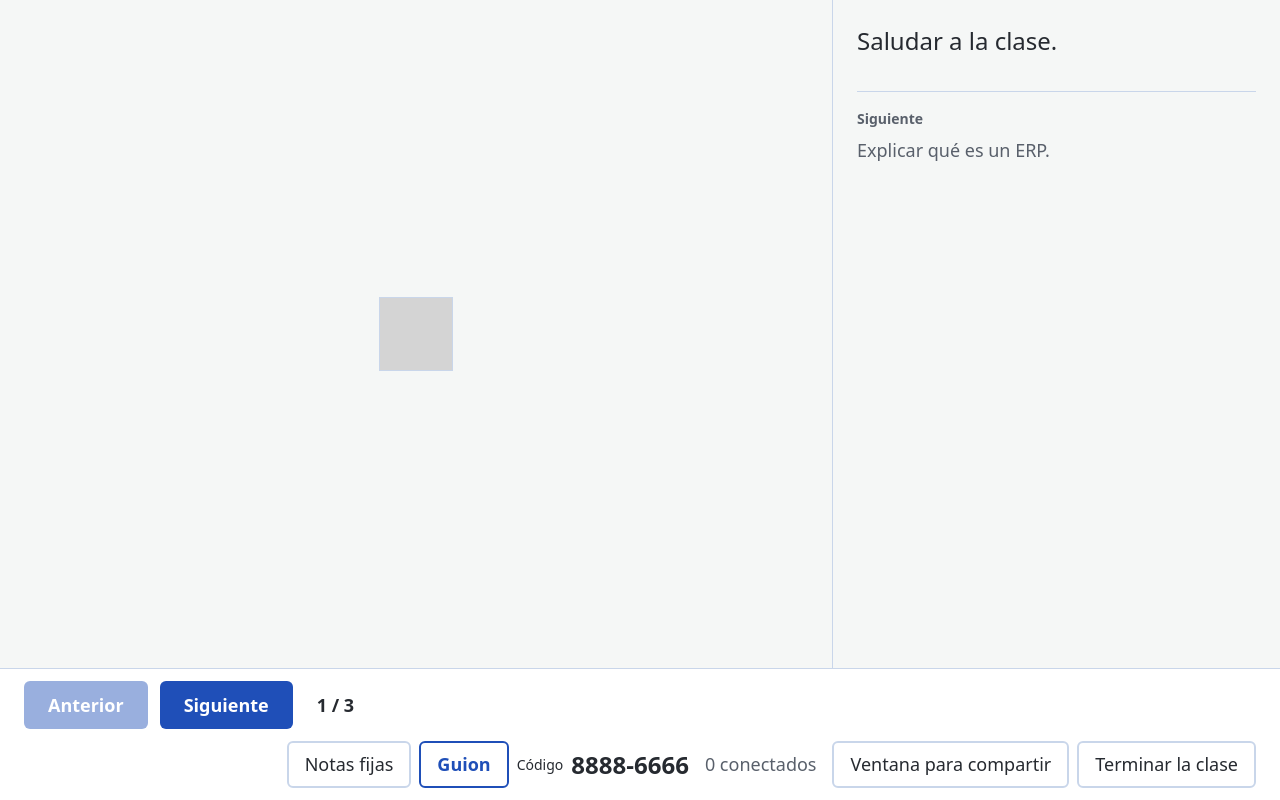
Test: ending the class asks first, and the view closes when the server says it ended
The image size is (1280, 800).
Click the button "Terminar la clase": (1167, 764) 1077,741 -> 1256,788
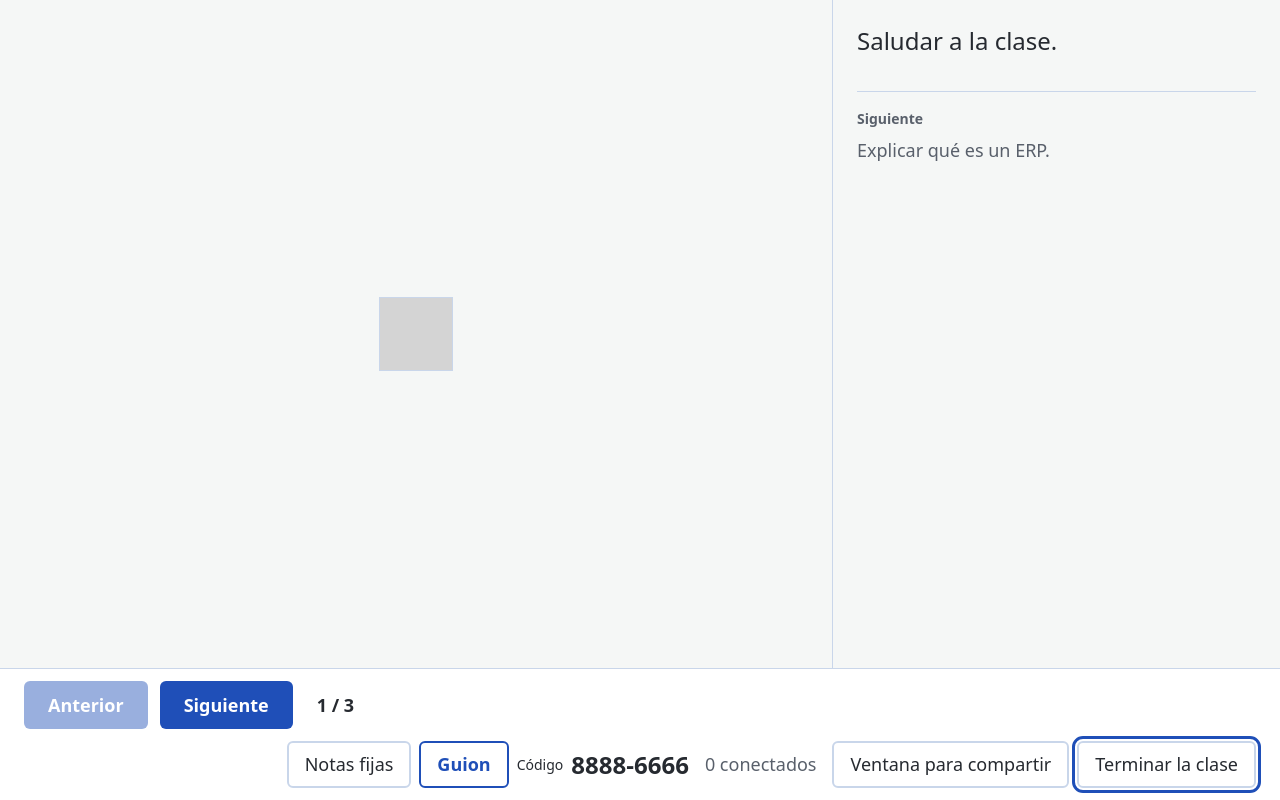
Click the button "Terminar la clase": (1167, 764) 1077,741 -> 1256,788
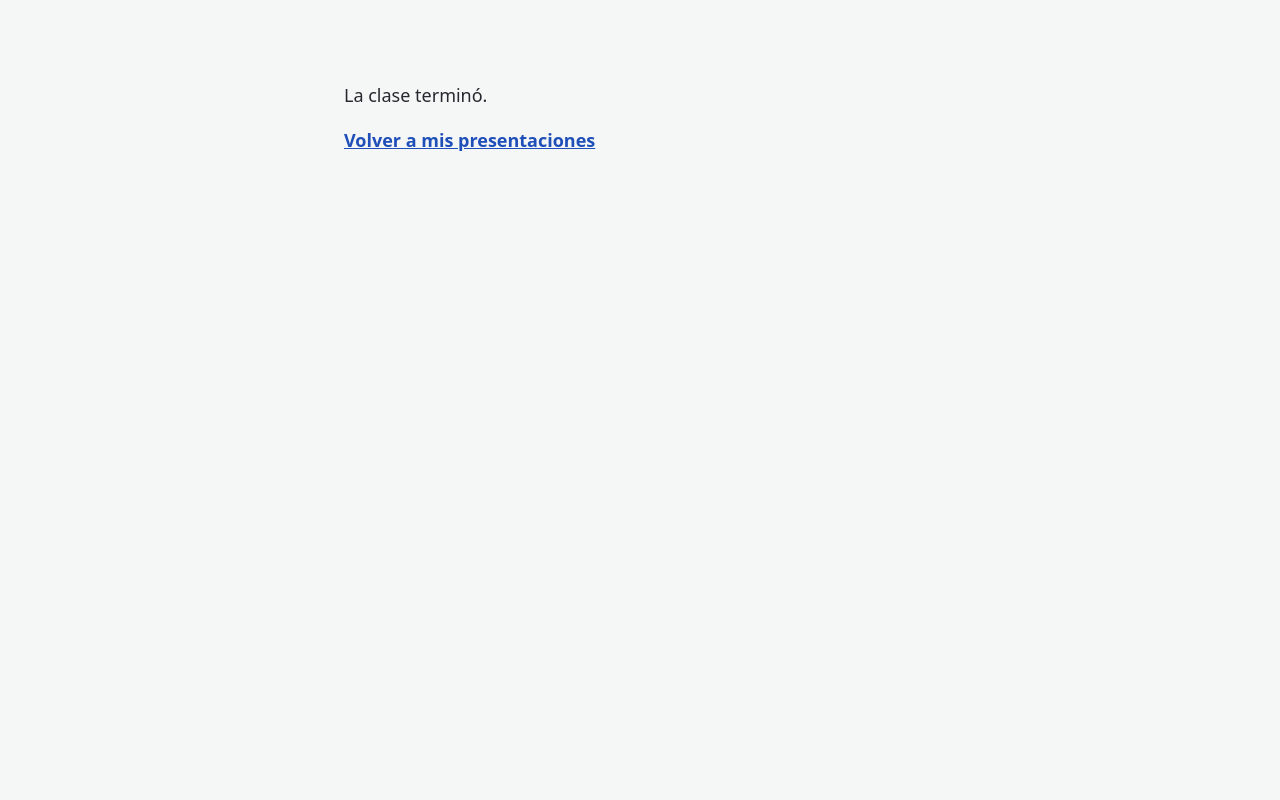
Result: the text "La clase terminó." is shown at 344,83 -> 488,107
